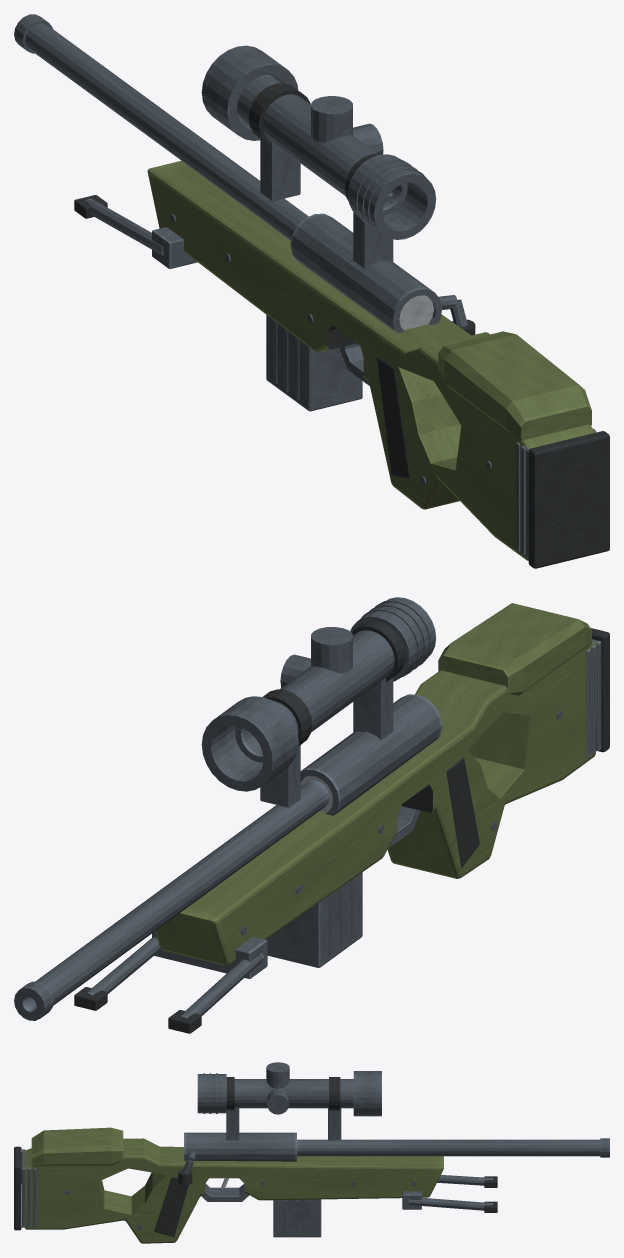
File: awp.glb
The picture shows the model from 3 angles, top to bottom: view 1: azimuth 30°, elevation 25°; view 2: azimuth 150°, elevation 25°; view 3: azimuth 270°, elevation 25°; orthographic projection. The views are drawn at different scales.
Visible parts, largest first — view 1: awp_Body, awp_Magazine, awp_Bolt; view 2: awp_Body, awp_Magazine; view 3: awp_Body, awp_Magazine, awp_Bolt.
Boxes of the visible parts, box(x1,y1,x2,y2) form: awp_Body: box(14, 14, 609, 568); awp_Magazine: box(266, 315, 362, 411); awp_Bolt: box(399, 295, 475, 335); awp_Body: box(14, 597, 609, 1033); awp_Magazine: box(266, 872, 362, 967); awp_Body: box(14, 1062, 609, 1243); awp_Magazine: box(273, 1199, 321, 1237); awp_Bolt: box(178, 1151, 195, 1185).
Size of the model in its own units: 0.196 by 0.4923 by 1.58.
Materials: 4 (4 with a texture image).
